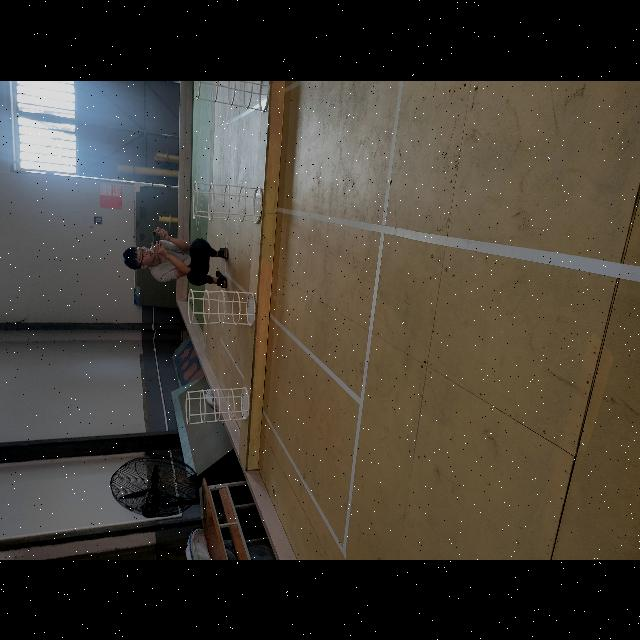S: (190, 179, 264, 226), (186, 288, 258, 326), (186, 386, 252, 426), (195, 80, 272, 113)
